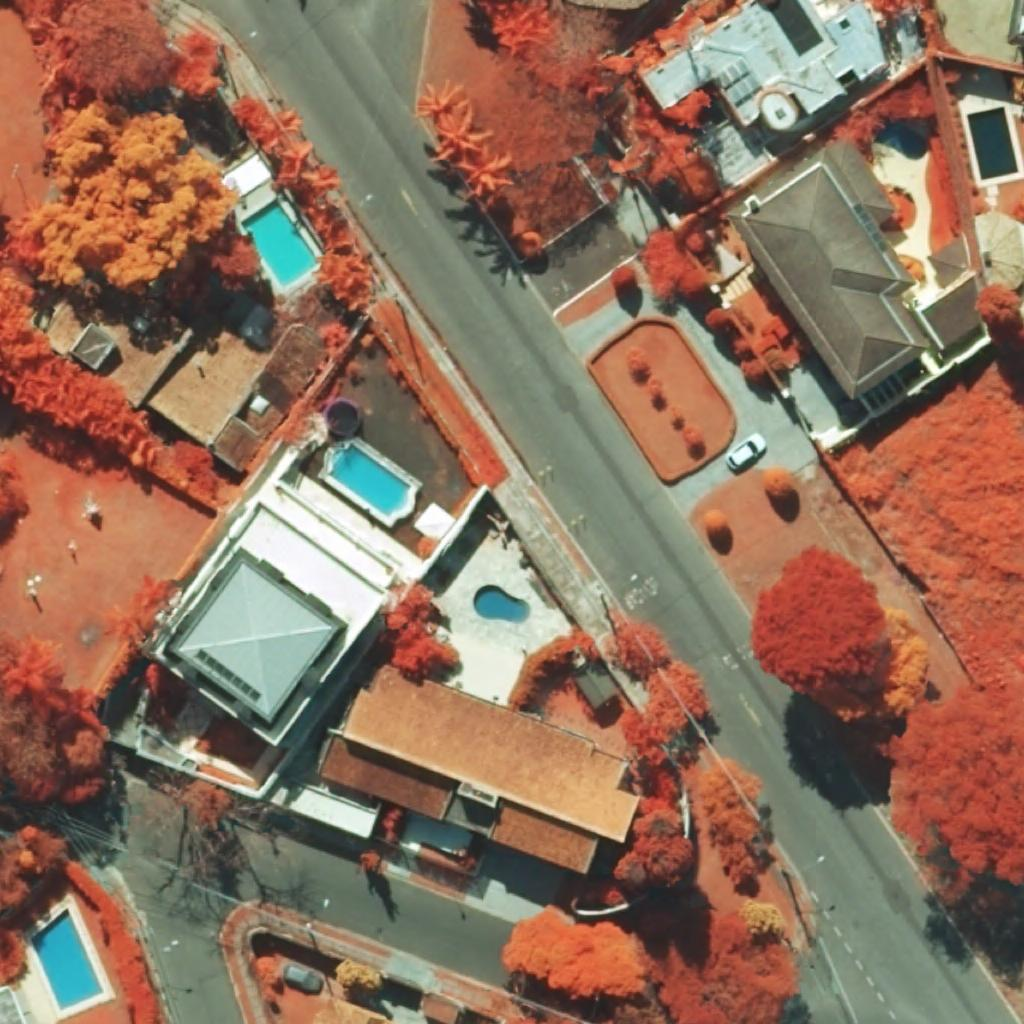pool: (31, 907, 104, 1010), (240, 199, 318, 287), (328, 443, 411, 516), (967, 106, 1019, 181), (473, 584, 530, 624), (874, 122, 929, 161)
